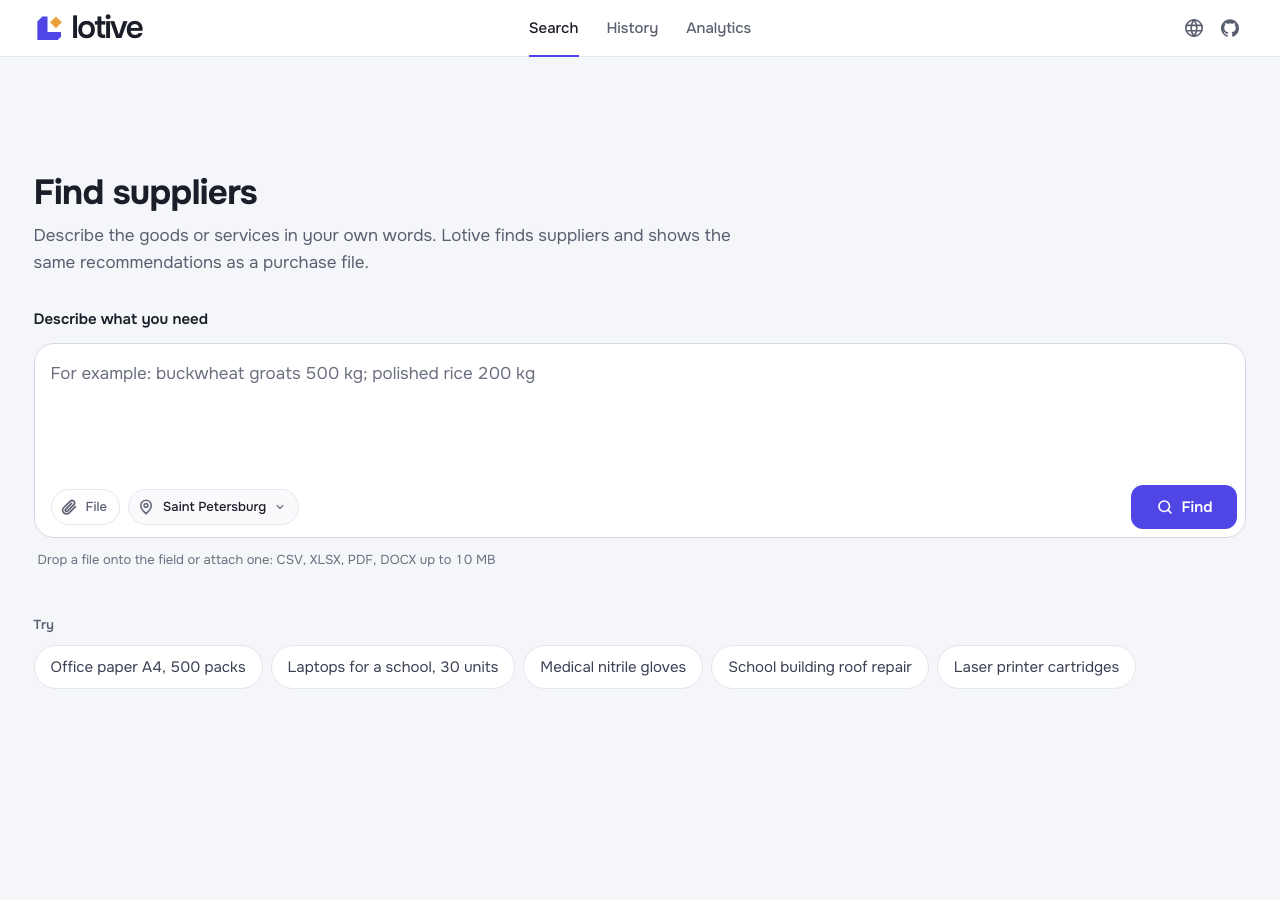
Test: the application shell › switches the whole interface to russian
Expected: the heading "Find suppliers" is shown, [34,170,257,215]
Click the button named "Language: English".
click(1194, 28)  # box [1178,12,1210,44]
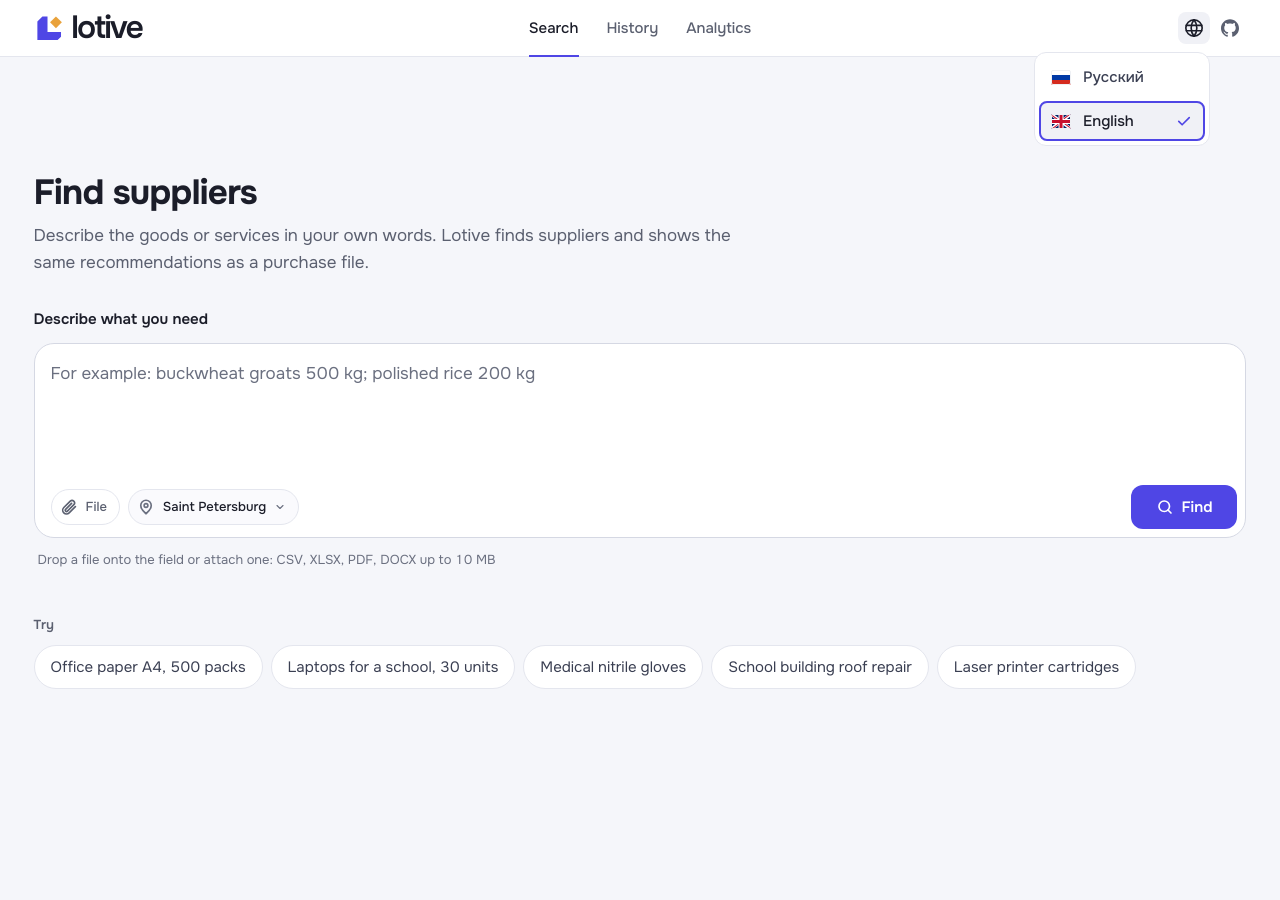
Click the menu item "Русский".
click(1122, 77)  # box [1039,57,1205,97]
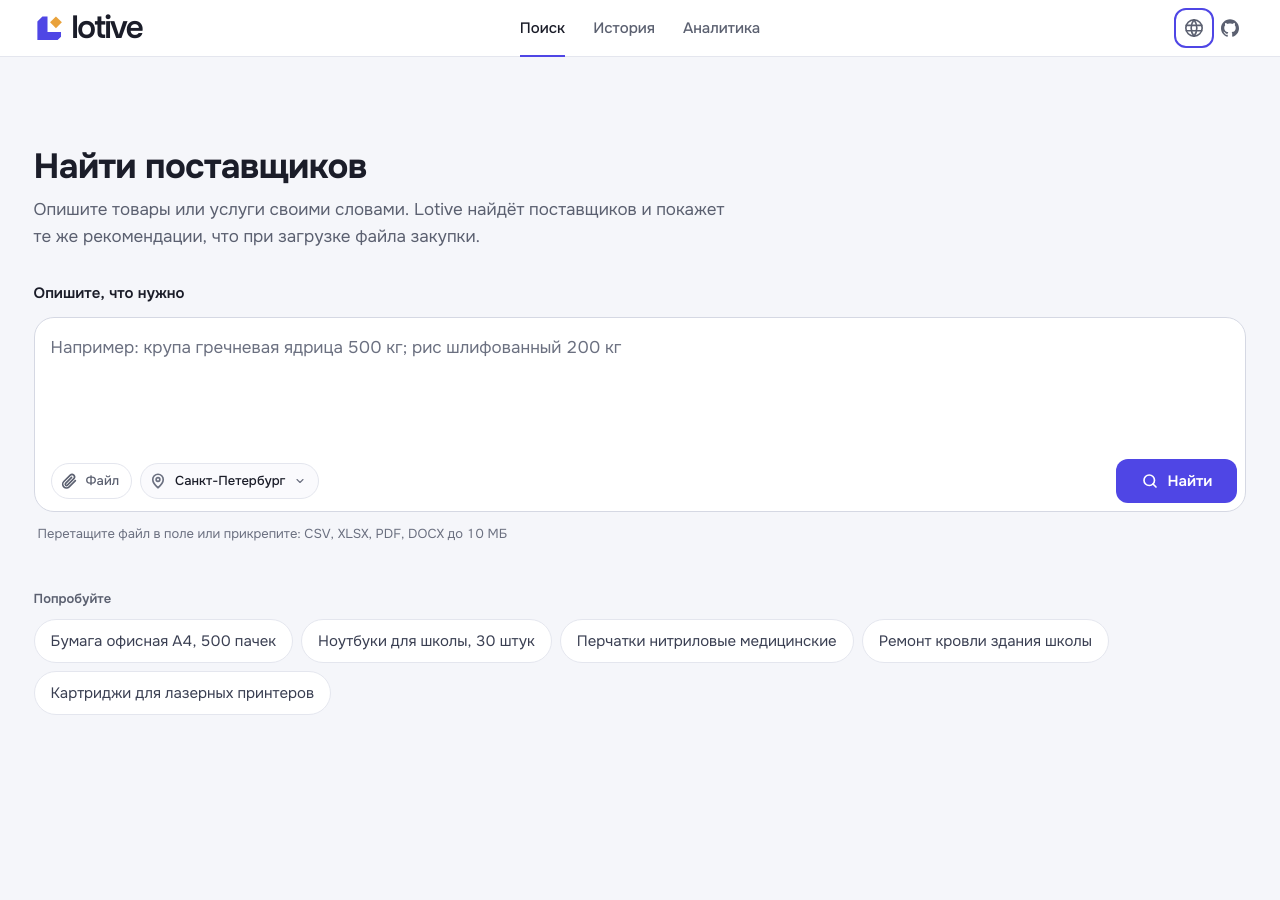
Now the button named "Язык: Русский" is collapsed, box [1178,12,1210,44]
Now the link "Поиск" is shown, box [520,18,565,38]
